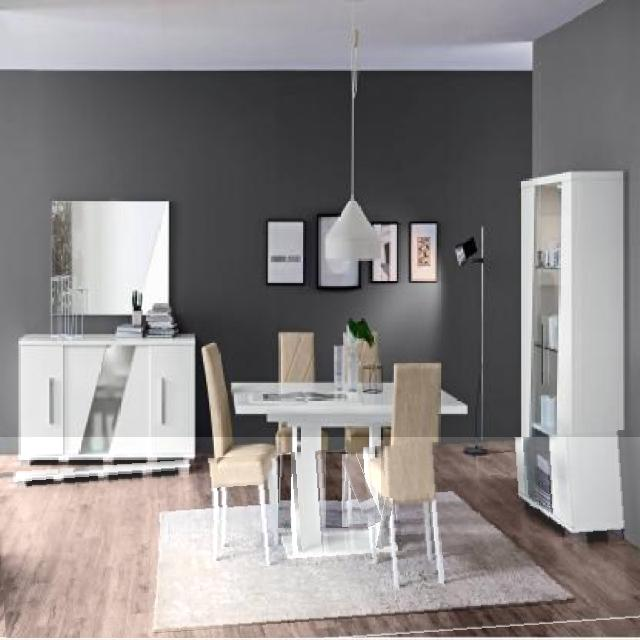floor: (0, 438, 640, 639), (342, 454, 381, 527), (326, 452, 348, 528), (278, 456, 291, 528), (375, 498, 392, 549)
